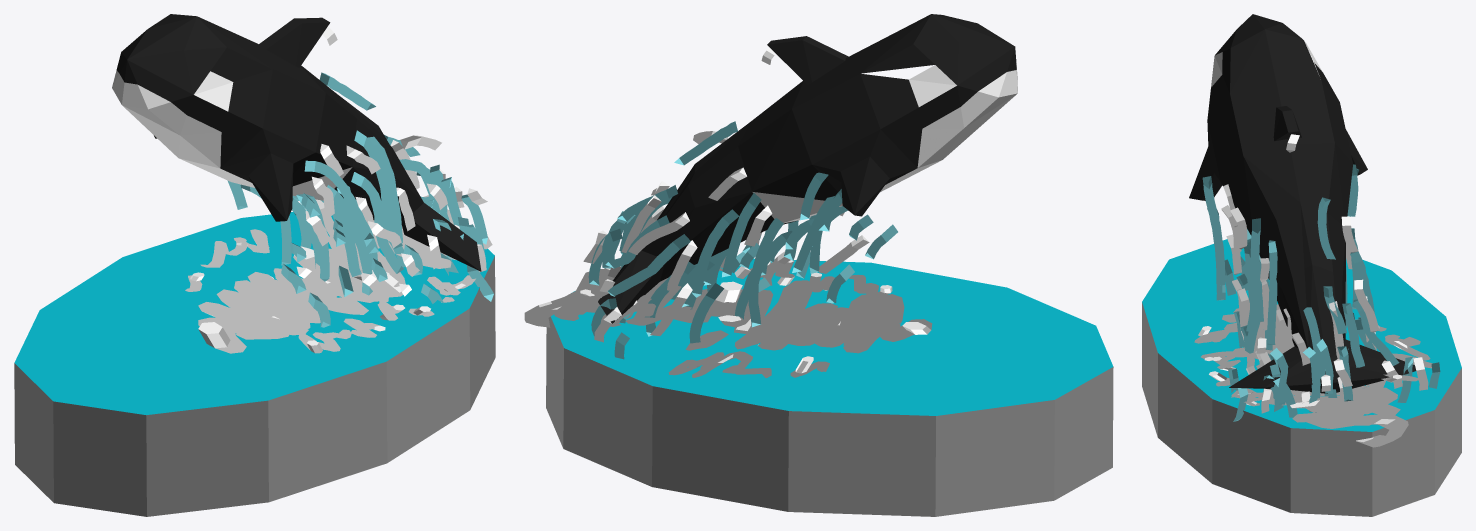
File: Killer Whale.glb
The picture shows the model from 3 angles, left to right: view 1: azimuth 30°, elevation 25°; view 2: azimuth 150°, elevation 25°; view 3: azimuth 270°, elevation 25°; orthographic projection. The views are drawn at different scales.
Parts seen in each view (by area): view 1: Node; view 2: Node; view 3: Node.
Boxes of the visible parts, x1=… form: Node: x1=14, y1=14, x2=495, y2=516; Node: x1=524, y1=14, x2=1113, y2=516; Node: x1=1142, y1=14, x2=1461, y2=516.
Size of the model in its own units: 0.4589 by 0.3818 by 0.3082.
